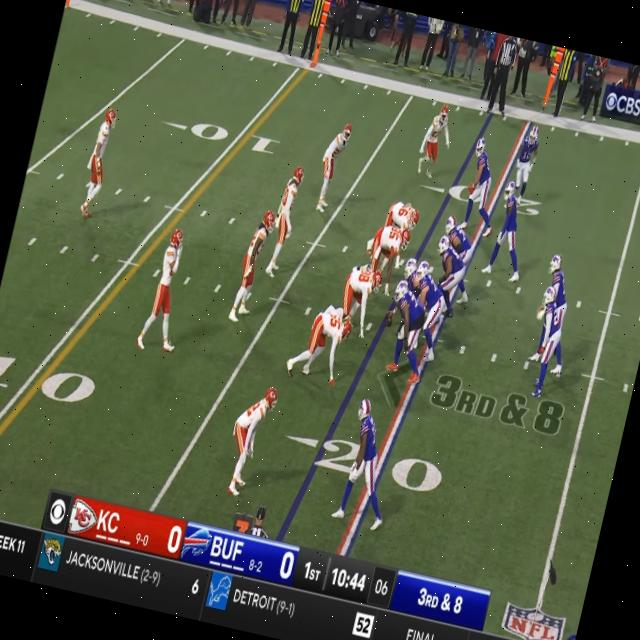Player: (334, 397, 394, 522), (139, 224, 195, 350), (220, 382, 278, 495), (229, 202, 275, 322), (523, 282, 569, 395), (263, 163, 307, 279), (76, 106, 119, 222), (378, 282, 429, 370), (457, 137, 502, 235), (294, 303, 351, 377), (486, 181, 528, 278), (314, 116, 352, 208), (408, 258, 452, 320), (336, 262, 384, 316), (416, 102, 451, 176), (428, 233, 472, 290), (510, 125, 542, 198), (367, 222, 412, 268), (438, 214, 476, 260), (543, 251, 574, 303), (385, 194, 423, 229)
Referee: (482, 34, 520, 118)
